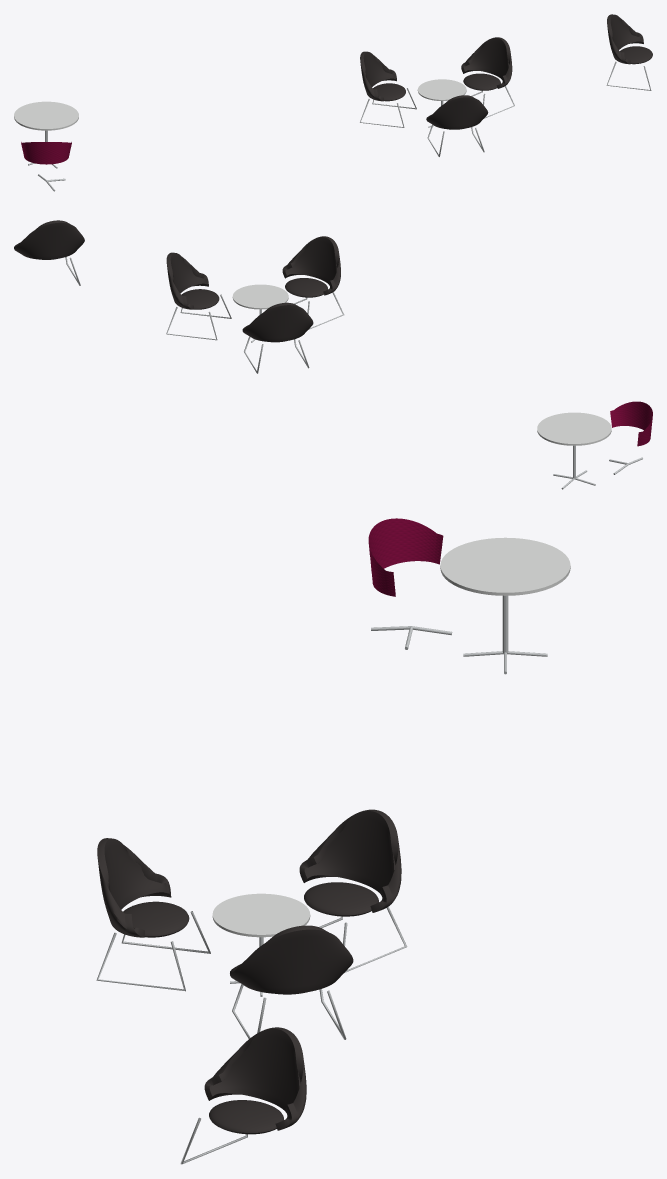
The model's file is SM_L2_Furniture_Solid_139d210685_1.fbx.
3 views of the same model, one above another, from view 1: azimuth 30°, elevation 25°; view 2: azimuth 150°, elevation 25°; view 3: azimuth 270°, elevation 25° (orthographic). The views are drawn at different scales.
Parts seen in each view (by area): view 1: SM_L2_Furniture_Solid_139d210685_1; view 2: SM_L2_Furniture_Solid_139d210685_1; view 3: SM_L2_Furniture_Solid_139d210685_1.
Part boxes in pixels (bbox=[...]): SM_L2_Furniture_Solid_139d210685_1: bbox=[14, 14, 652, 191]; SM_L2_Furniture_Solid_139d210685_1: bbox=[14, 220, 652, 489]; SM_L2_Furniture_Solid_139d210685_1: bbox=[96, 518, 570, 1164].
Size of the model in its own units: 10 by 3.5 by 1.01.
